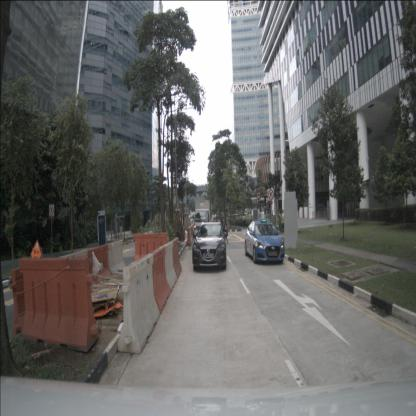human-pedestrian-adult: (223, 219, 229, 243), (220, 218, 224, 245), (242, 213, 246, 229)
movable_object-barrier: (19, 256, 99, 351), (117, 254, 160, 354), (10, 257, 58, 337), (58, 250, 87, 296), (132, 233, 169, 269), (152, 245, 171, 314), (88, 242, 111, 286), (164, 241, 177, 293), (108, 239, 126, 276), (172, 237, 182, 278), (186, 228, 192, 246), (189, 226, 193, 244), (191, 225, 194, 240)
vehicle-bicycle: (113, 230, 118, 240)
vehicle-car: (244, 218, 285, 264), (192, 219, 226, 270), (211, 213, 219, 223)
vehicle-truck: (193, 208, 210, 239)
